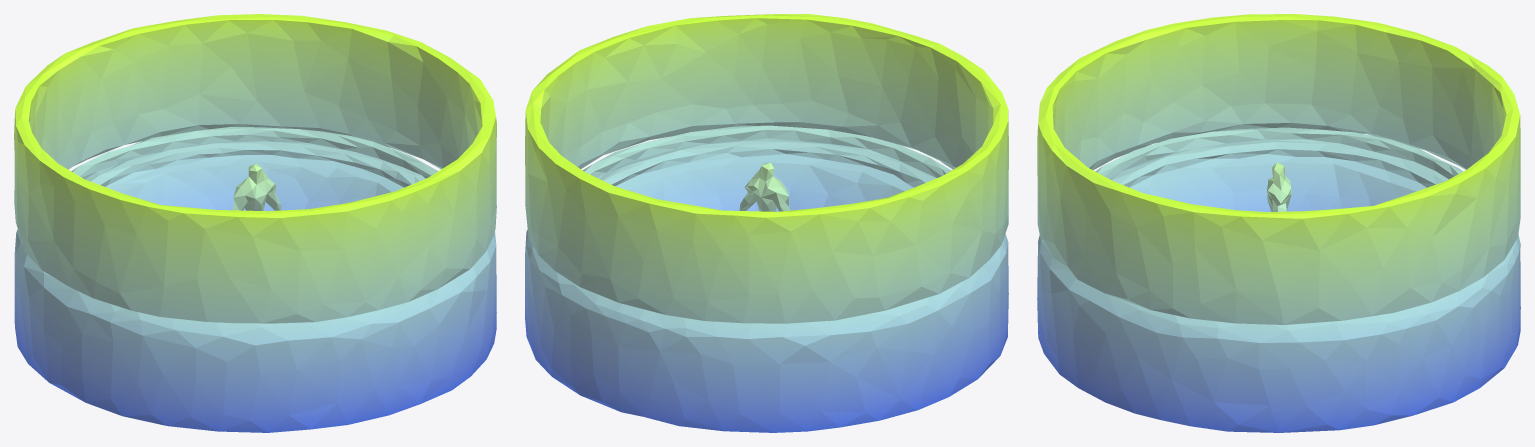
File: 96_cyb_laser_gradient_fish_scales_2993_2026_10_03_29b553.glb
3 renders of one model, left to right at view 1: azimuth 30°, elevation 25°; view 2: azimuth 150°, elevation 25°; view 3: azimuth 270°, elevation 25°, orthographic.
Visible parts, largest first — view 1: geometry_0; view 2: geometry_0; view 3: geometry_0.
Part boxes in pixels (left/top/right/bottom): geometry_0: left=14, top=14, right=496, bottom=432; geometry_0: left=525, top=14, right=1008, bottom=432; geometry_0: left=1037, top=14, right=1520, bottom=432.
Size of the model in its own units: 1 by 0.5008 by 1.
